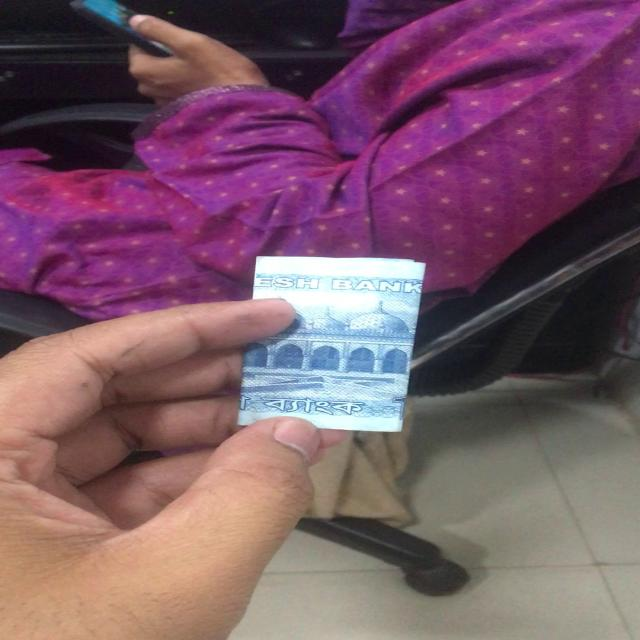Taka: (258, 258, 407, 430)
